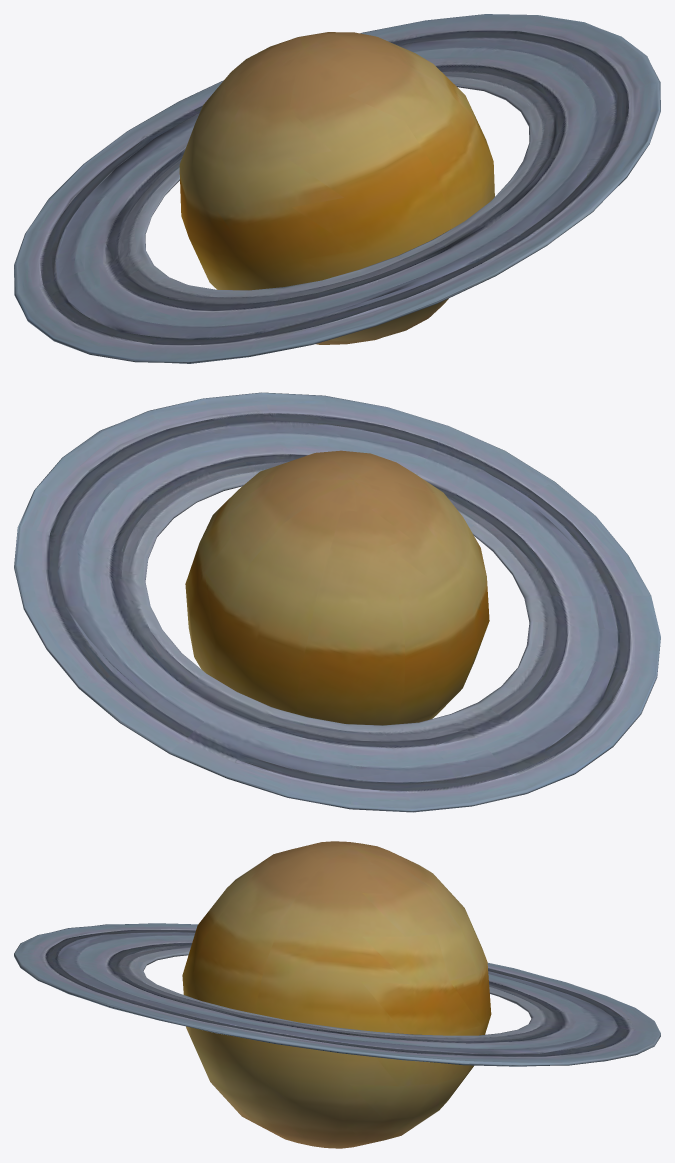
3 renders of one model, top to bottom at view 1: azimuth 30°, elevation 25°; view 2: azimuth 150°, elevation 25°; view 3: azimuth 270°, elevation 25°, orthographic. The views are drawn at different scales.
Visible parts, largest first — view 1: tripo_node_9f1d96fd-306e-4a06-a668-3bf14700ca12; view 2: tripo_node_9f1d96fd-306e-4a06-a668-3bf14700ca12; view 3: tripo_node_9f1d96fd-306e-4a06-a668-3bf14700ca12.
Boxes of the visible parts, x1,y1,x2,y2 form: tripo_node_9f1d96fd-306e-4a06-a668-3bf14700ca12: [14, 14, 660, 363]; tripo_node_9f1d96fd-306e-4a06-a668-3bf14700ca12: [14, 392, 660, 812]; tripo_node_9f1d96fd-306e-4a06-a668-3bf14700ca12: [14, 841, 660, 1148].
Size of the model in its own units: 0.9902 by 0.4707 by 0.998.
1 material, 1 textured.
